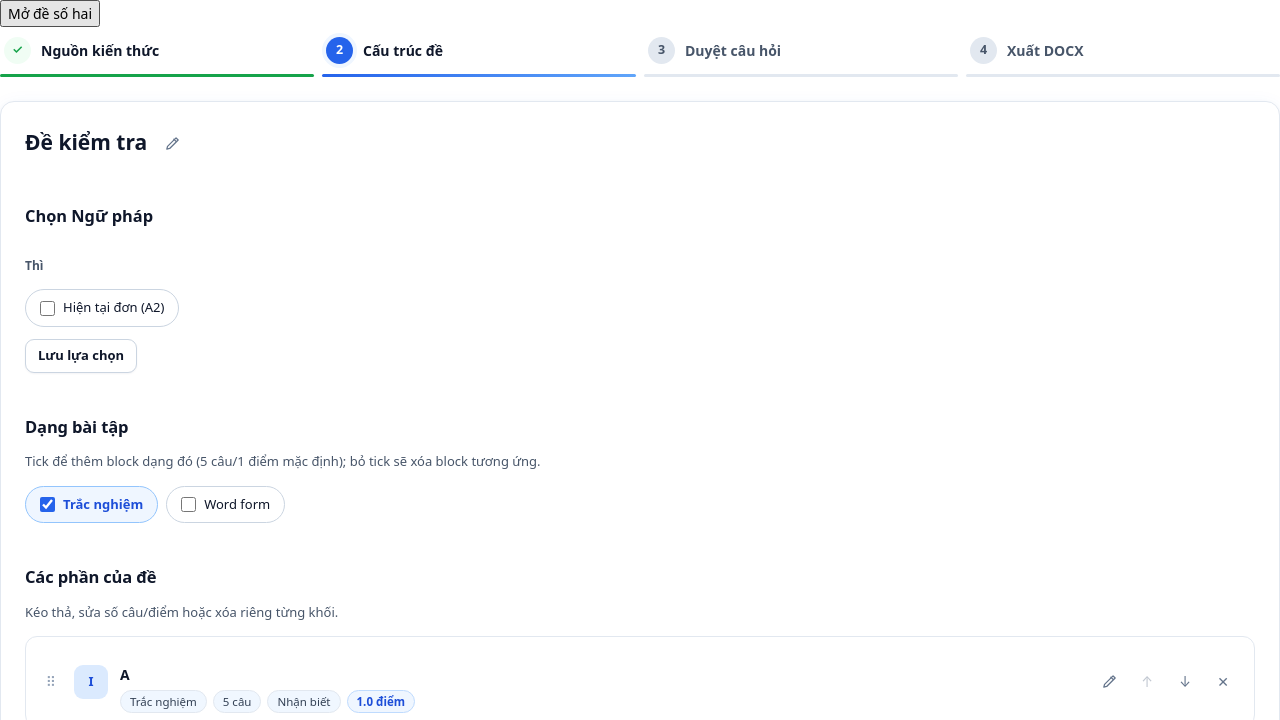
Test: ExamBuilderPage › lets the question count field go empty instead of snapping back to 0 while retyping
Click the button named "Chỉnh sửa A" at [1109, 682], box [1092,665,1126,699]
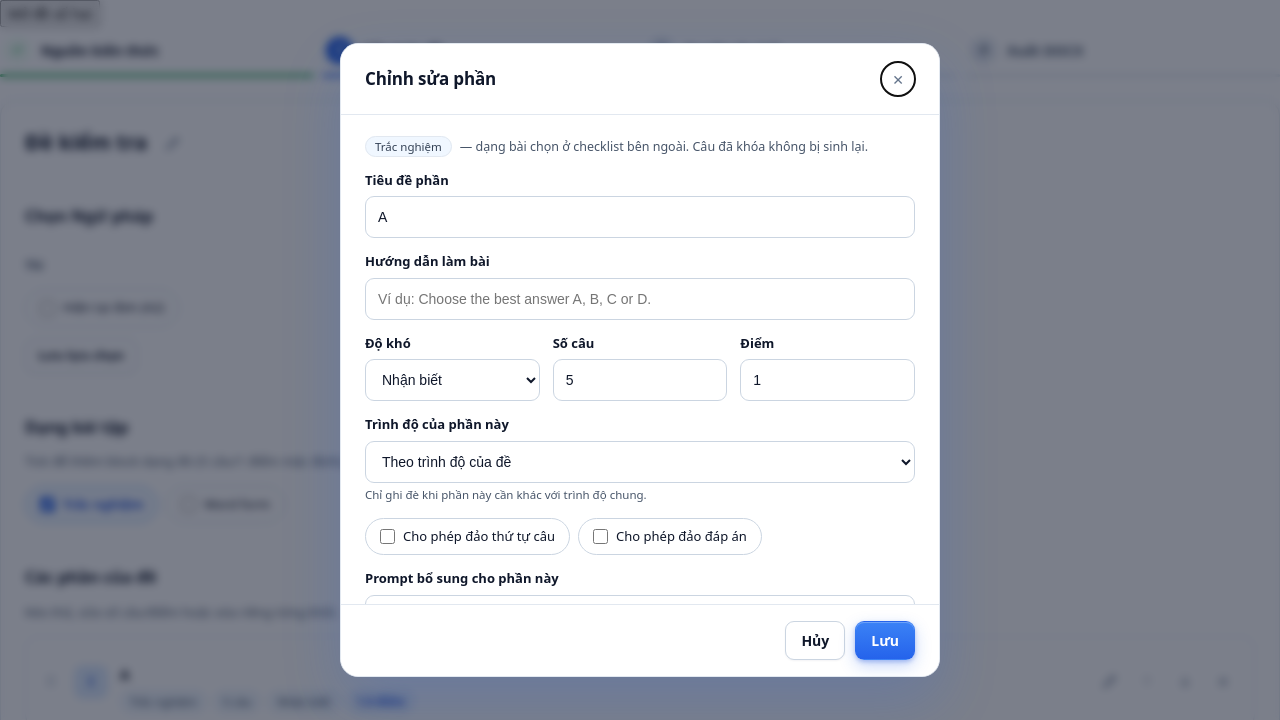
Clear the number field labelled "Số câu" at [640, 380], box [553,360,727,402]
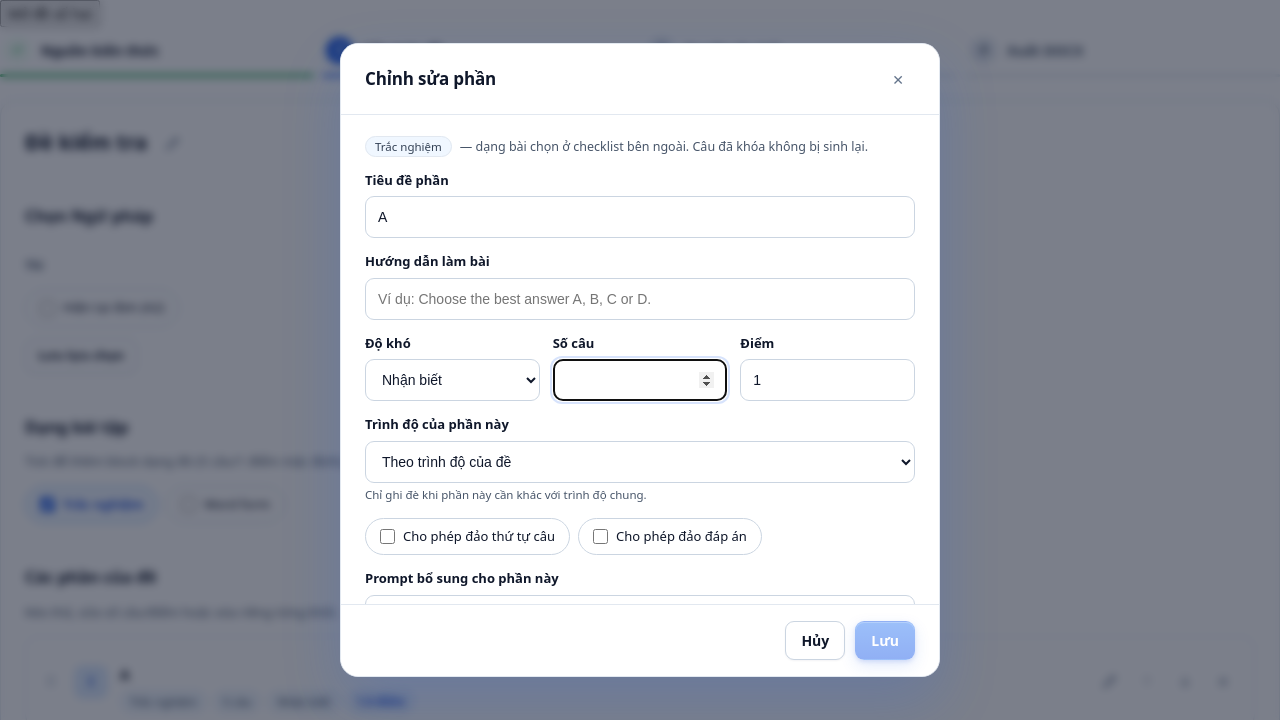
Expected: the button "Lưu" is disabled, [855,621,915,660]
Type "10" into the number field labelled "Số câu" at [640, 380], box [553,360,727,402]
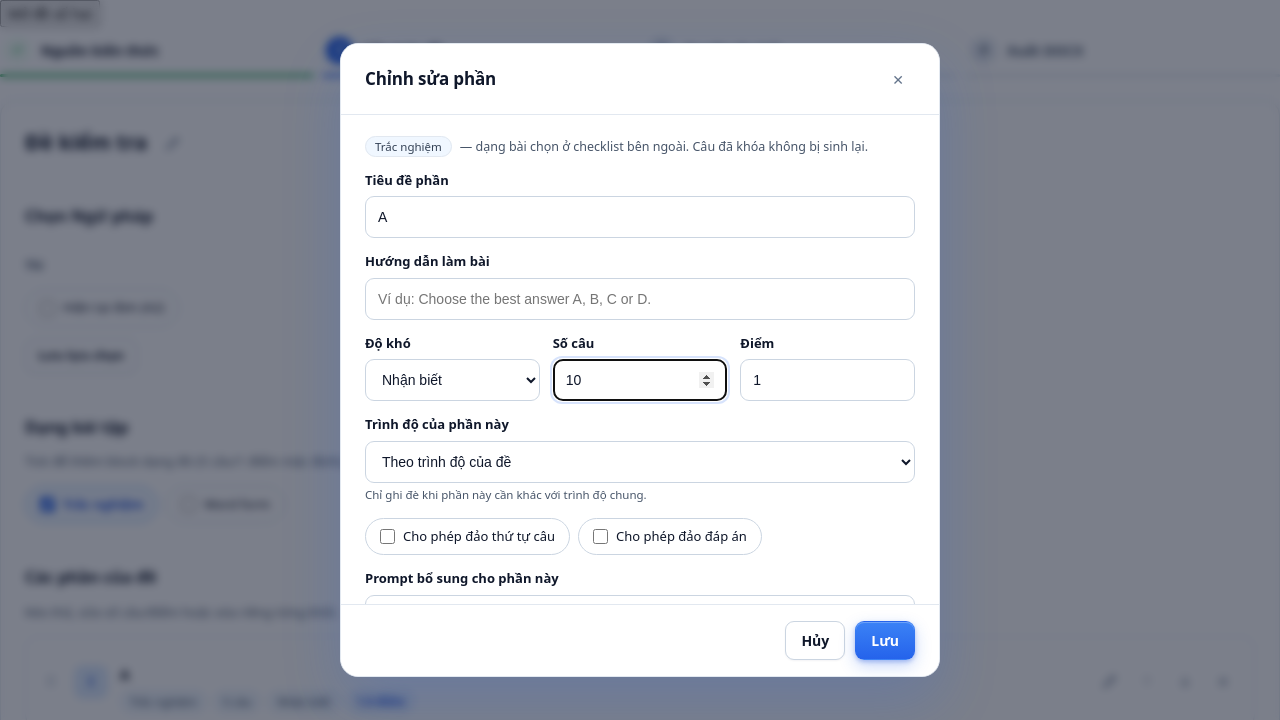
Expected: the button "Lưu" is enabled, [855,621,915,660]
